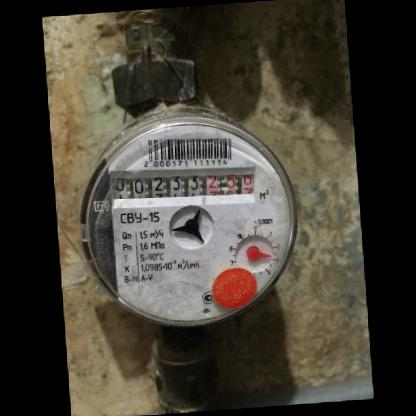digital_screen: (108, 167, 205, 207)
